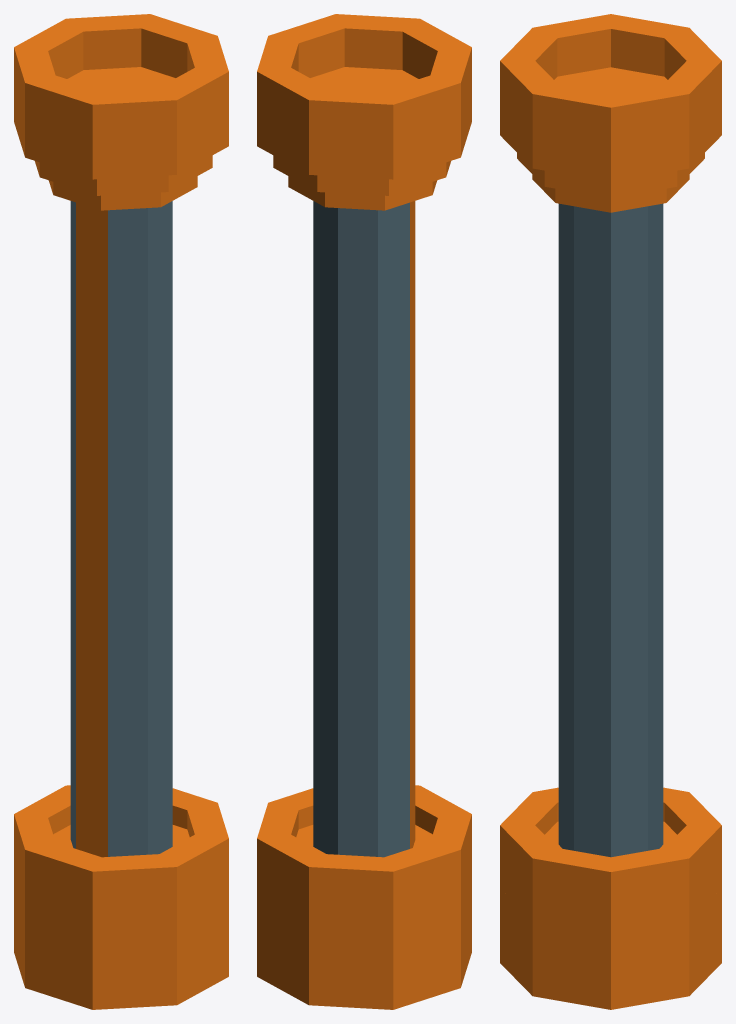
The model's file is Pipe 2.fbx.
The picture shows the model from 3 angles, left to right: view 1: azimuth 30°, elevation 25°; view 2: azimuth 150°, elevation 25°; view 3: azimuth 270°, elevation 25°; orthographic projection.
Visible parts, largest first — view 1: Cylinder.022; view 2: Cylinder.022; view 3: Cylinder.022.
Part boxes in pixels (<box>): Cylinder.022: <box>14,14,228,1009</box>; Cylinder.022: <box>257,14,471,1009</box>; Cylinder.022: <box>500,14,721,1009</box>.
Bounding box in the file's own units: 0.1583 × 0.7104 × 0.1583.
